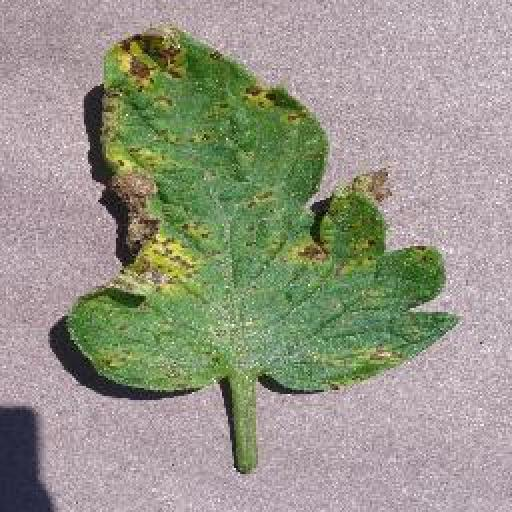disease_tomato: (70, 24, 460, 397)
